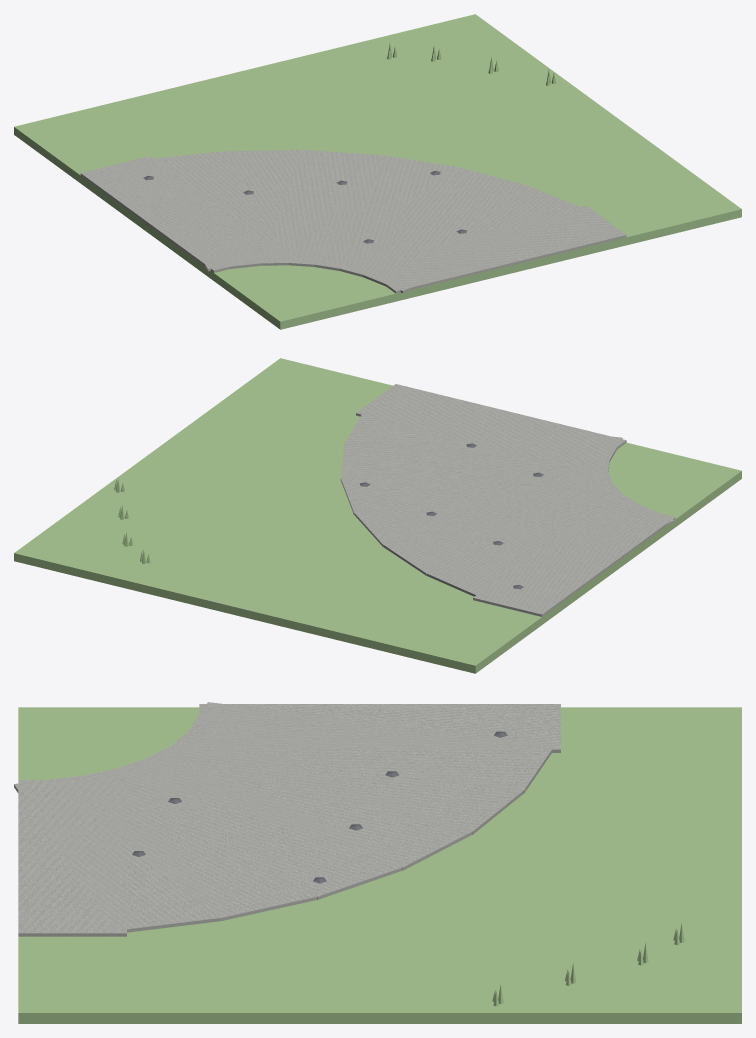
The model's file is caravan-park-and-campsite-gravel-track-curve-94d53ed9__35357.glb.
The picture shows the model from 3 angles, top to bottom: view 1: azimuth 30°, elevation 25°; view 2: azimuth 150°, elevation 25°; view 3: azimuth 270°, elevation 25°; orthographic projection. The views are drawn at different scales.
Visible parts, largest first — view 1: gravel-track-curve-grass, gravel-track-curve-hard; view 2: gravel-track-curve-grass, gravel-track-curve-hard; view 3: gravel-track-curve-grass, gravel-track-curve-hard.
Boxes of the visible parts, box(x1,y1,x2,y2) form: gravel-track-curve-grass: box(14, 14, 741, 329); gravel-track-curve-hard: box(80, 150, 626, 293); gravel-track-curve-grass: box(14, 358, 741, 673); gravel-track-curve-hard: box(340, 384, 675, 616); gravel-track-curve-grass: box(18, 707, 741, 1023); gravel-track-curve-hard: box(14, 702, 560, 936).
Size of the model in its own units: 6.04 by 0.2798 by 6.04.
Materials: 3 (1 with a texture image).
